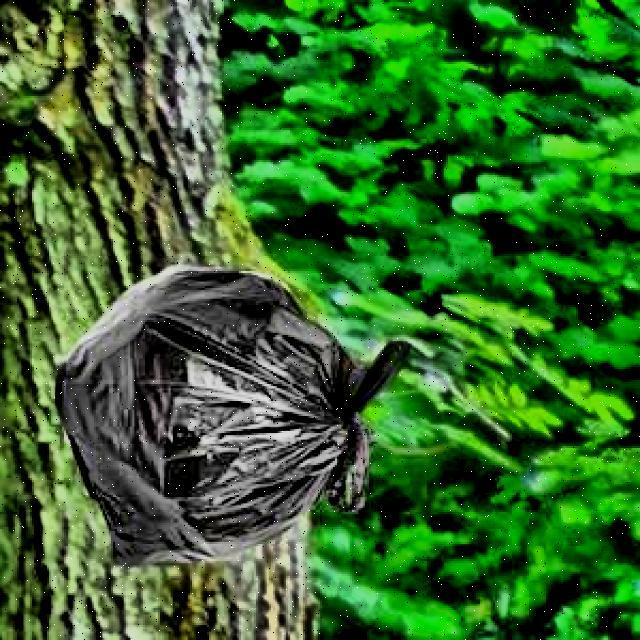Trashbag: (51, 262, 410, 586)
